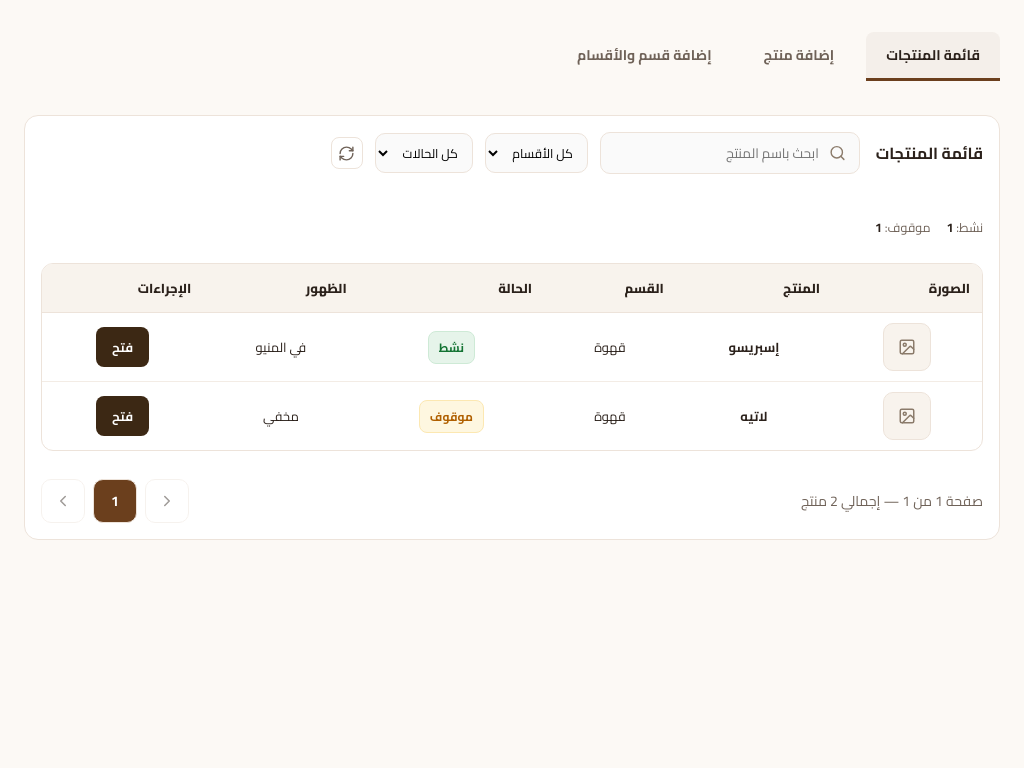
Scenario: products page on the v1 layer › opens product details with server cost preview and recipe
Click the button "فتح" in the row of "إسبريسو" at x=123, y=347, box [96,327,149,367]
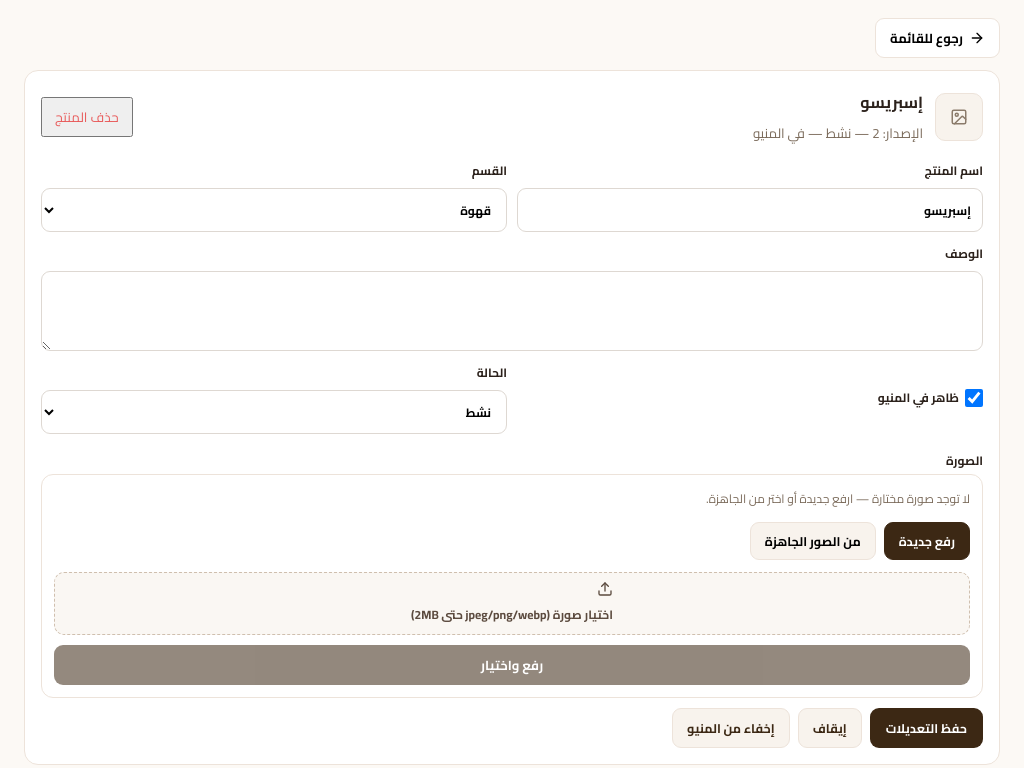
Check: the button "حذف المنتج" is shown, box [41,97,133,137]
